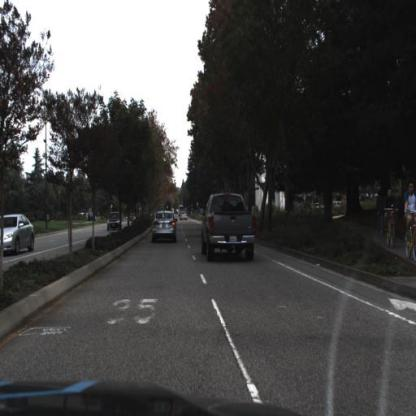biker: (404, 183, 416, 263), (384, 188, 398, 250)
car: (199, 189, 257, 267), (1, 214, 35, 255), (153, 208, 178, 244), (108, 210, 124, 231)
pedestrian: (377, 184, 386, 235)
